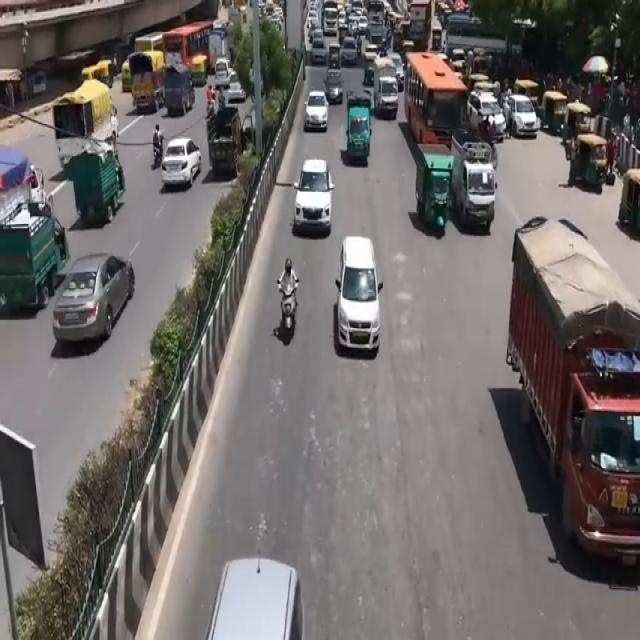BUS: (403, 52, 470, 140), (162, 23, 214, 87)
MOTORCYCLE: (281, 288, 297, 349)
TRUCK: (510, 224, 639, 577), (455, 125, 500, 233), (124, 51, 165, 115)
